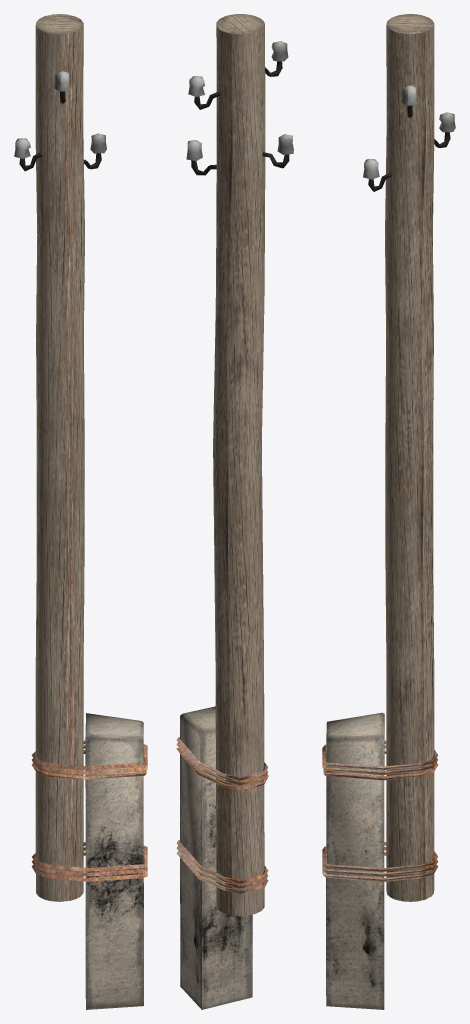
File: prop_streetlight_poste.glb
3 views of the same model, side by side, from view 1: azimuth 90°, elevation 25°; view 2: azimuth 210°, elevation 25°; view 3: azimuth 270°, elevation 25° (orthographic).
Visible parts, largest first — view 1: prop_streetlight_poste_mesh; view 2: prop_streetlight_poste_mesh; view 3: prop_streetlight_poste_mesh.
Boxes of the visible parts, left/top/right/bottom form: prop_streetlight_poste_mesh: left=14, top=14, right=147, bottom=1009; prop_streetlight_poste_mesh: left=176, top=14, right=293, bottom=1009; prop_streetlight_poste_mesh: left=322, top=14, right=455, bottom=1009.
Bounding box in the file's own units: 0.6815 × 6.5 × 0.8082.
Materials: 4 (4 with a texture image).
